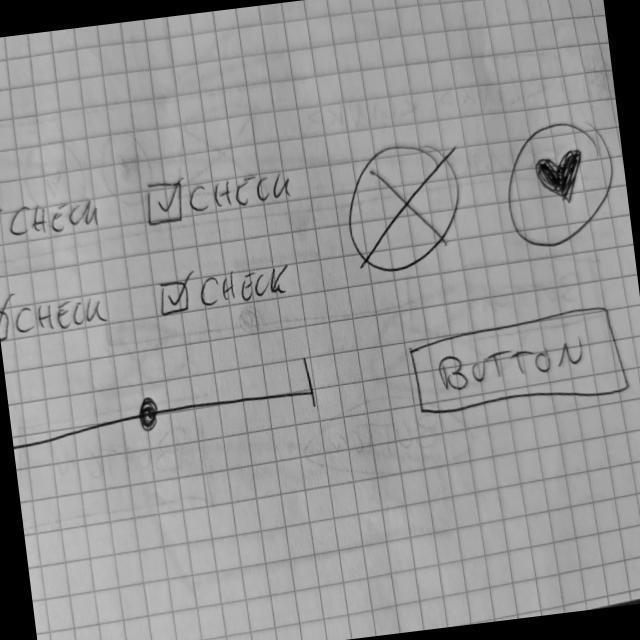button: (405, 300, 633, 422)
checkbox: (141, 163, 297, 230), (157, 260, 298, 318), (1, 289, 112, 349), (1, 193, 103, 253)
slider: (7, 352, 325, 474), (338, 139, 471, 281)
